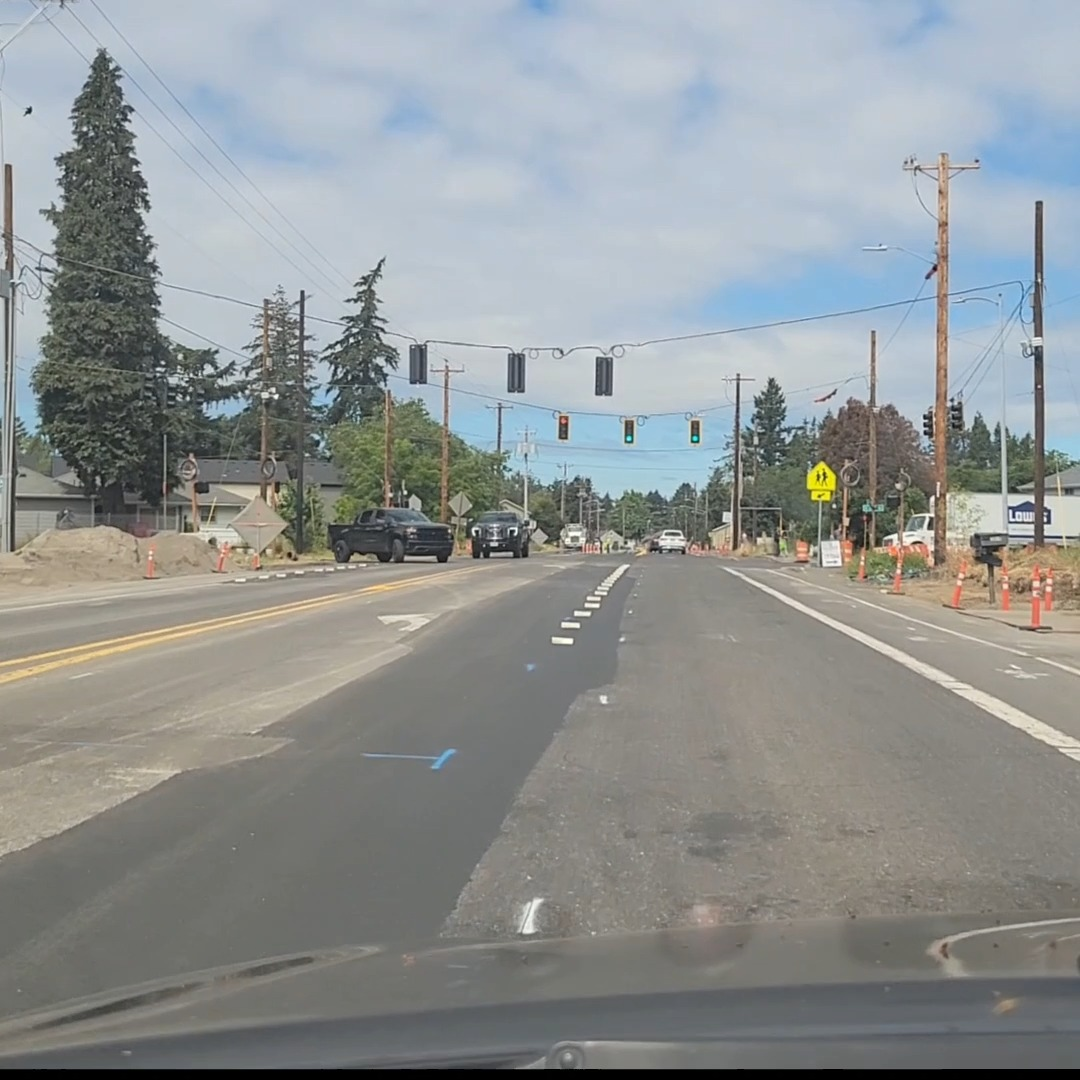car: (321, 503, 456, 572), (466, 510, 533, 558), (652, 529, 688, 554), (639, 531, 661, 551)
crosswalk-sign: (806, 459, 835, 500)
delineator: (889, 544, 906, 594), (1029, 567, 1043, 627), (950, 563, 967, 608), (1000, 565, 1011, 610), (214, 541, 229, 572), (143, 547, 157, 578), (857, 543, 867, 578), (250, 548, 261, 570)
